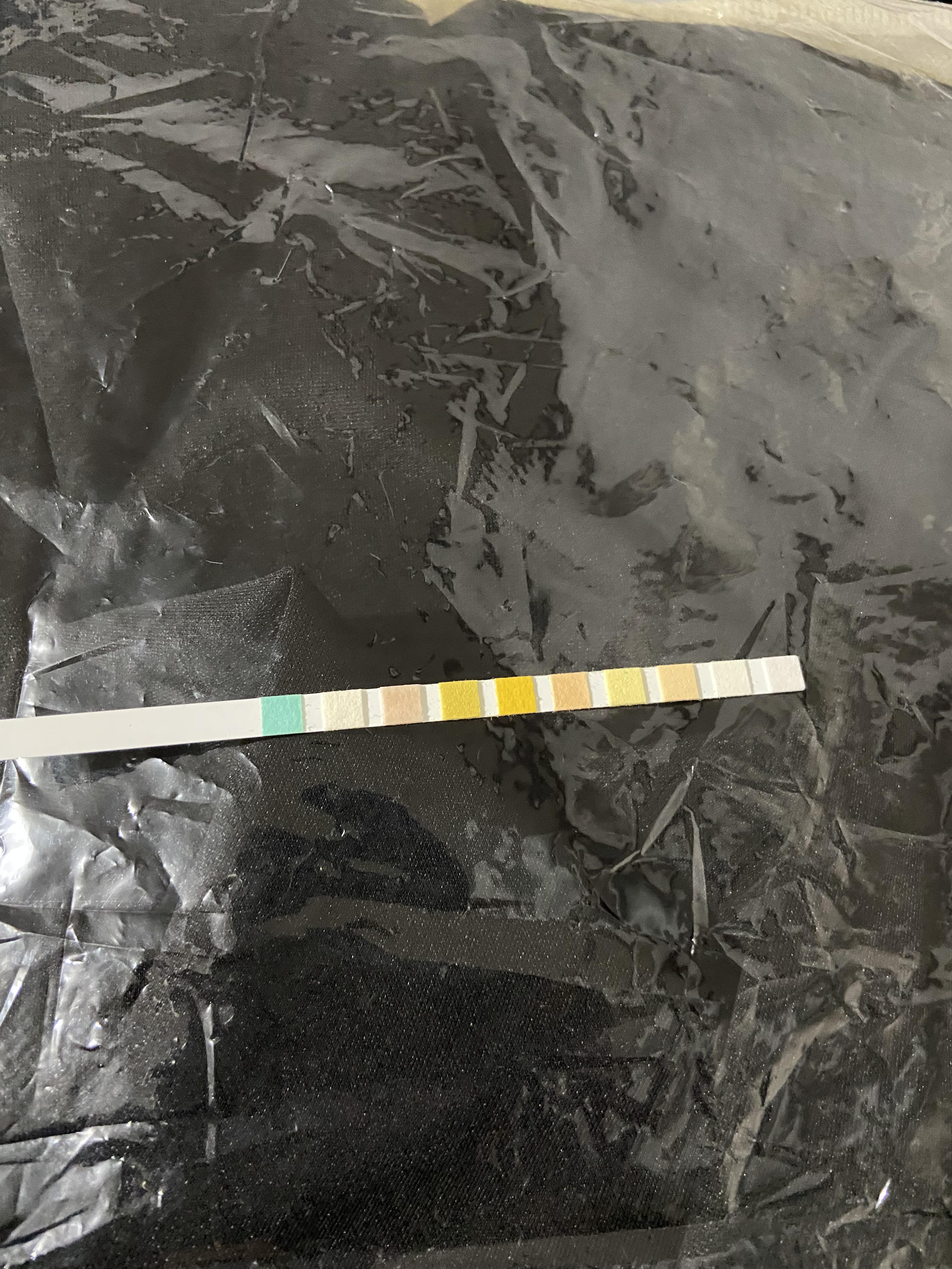Bilirubin: (324, 693, 361, 728)
Blood: (499, 679, 532, 713)
Glucose: (263, 698, 301, 733)
Ketone: (384, 686, 420, 723)
Leukocytes: (770, 658, 798, 691)
Nitrite: (717, 662, 745, 695)
Protein: (609, 670, 641, 704)
SpGravity: (444, 683, 477, 718)
Urobilinogen: (662, 666, 694, 699)
pH: (555, 674, 586, 709)
strip: (0, 655, 806, 762)
